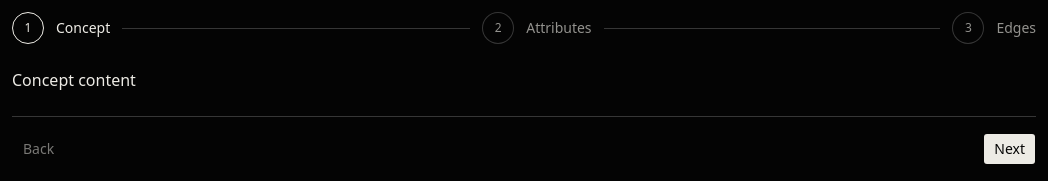
Scenario: MultiStepFlow › lets any step be opened directly when step navigation is allowed
The image size is (1048, 181).
Click the button "3 Edges": (994, 28) [952,12,1036,44]
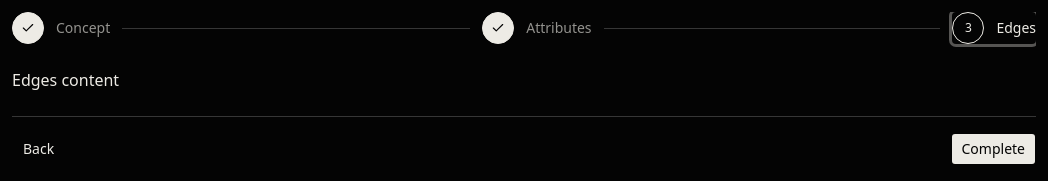
Check: the button "Attributes" is enabled, box [482,12,592,44]
Check: the text "Edges content" is shown, box [12,69,119,91]
